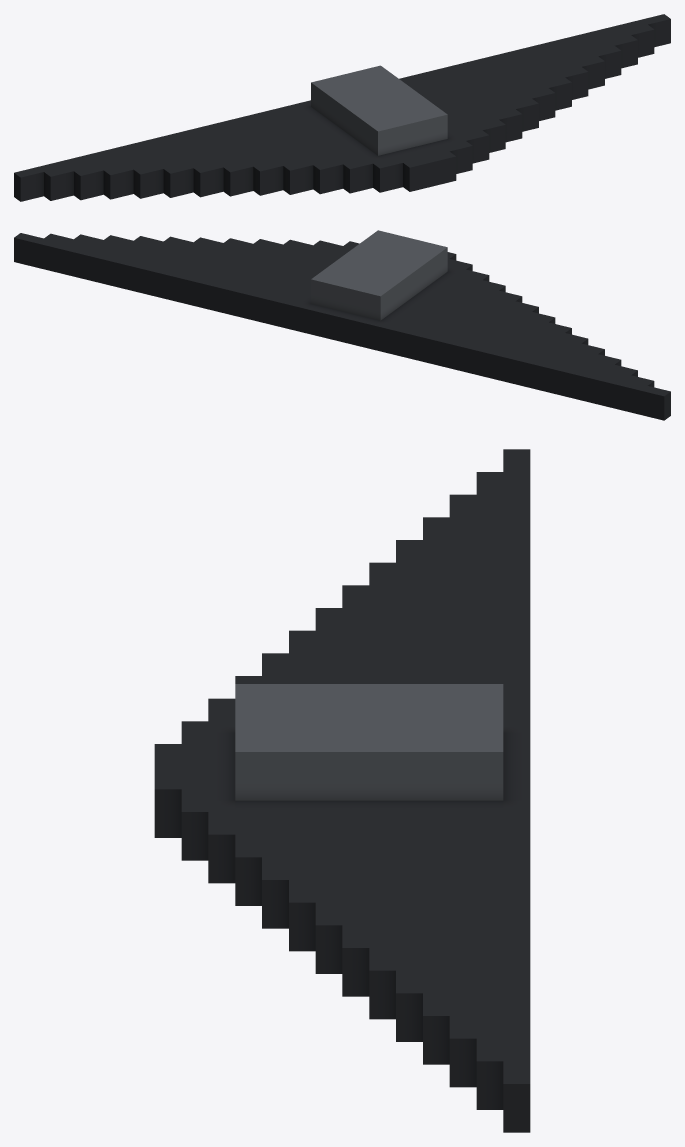
File: u_stealth.glb
3 renders of one model, top to bottom at view 1: azimuth 30°, elevation 25°; view 2: azimuth 150°, elevation 25°; view 3: azimuth 270°, elevation 25°, orthographic. The views are drawn at different scales.
Visible parts, largest first — view 1: u_stealth_body; view 2: u_stealth_body; view 3: u_stealth_body.
Part boxes in pixels (x1,y1,x2,y2): u_stealth_body: (14, 14, 670, 201); u_stealth_body: (14, 230, 670, 420); u_stealth_body: (154, 449, 530, 1132).
Bounding box in the file's own units: 3.5 × 0.25 × 0.875.
Materials: 1 (1 with a texture image).
